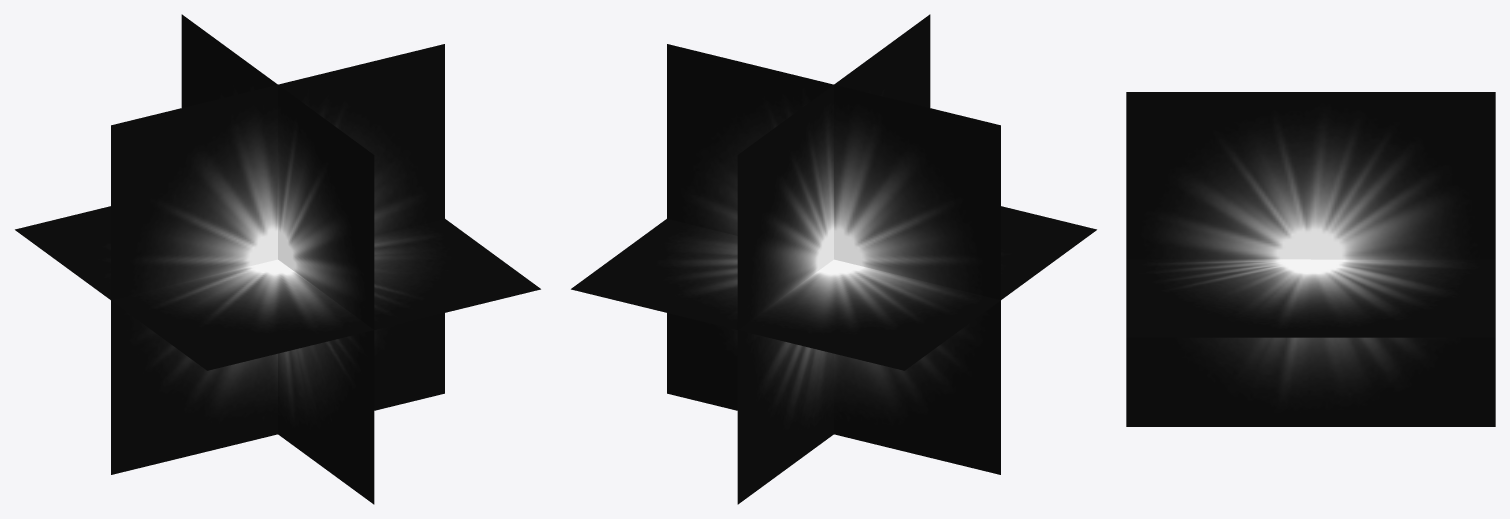
Rendered from si_eam_0240.glb.
3 renders of one model, left to right at view 1: azimuth 30°, elevation 25°; view 2: azimuth 150°, elevation 25°; view 3: azimuth 270°, elevation 25°, orthographic. The views are drawn at different scales.
Visible parts, largest first — view 1: layer_00_si_est_0003; view 2: layer_00_si_est_0003; view 3: layer_00_si_est_0003.
Boxes of the visible parts, x1,y1,x2,y2 form: layer_00_si_est_0003: (15, 14, 540, 504); layer_00_si_est_0003: (571, 14, 1096, 504); layer_00_si_est_0003: (1126, 92, 1495, 426).
Bounding box in the file's own units: 16 × 16 × 16.
Materials: 3 (3 with a texture image).
